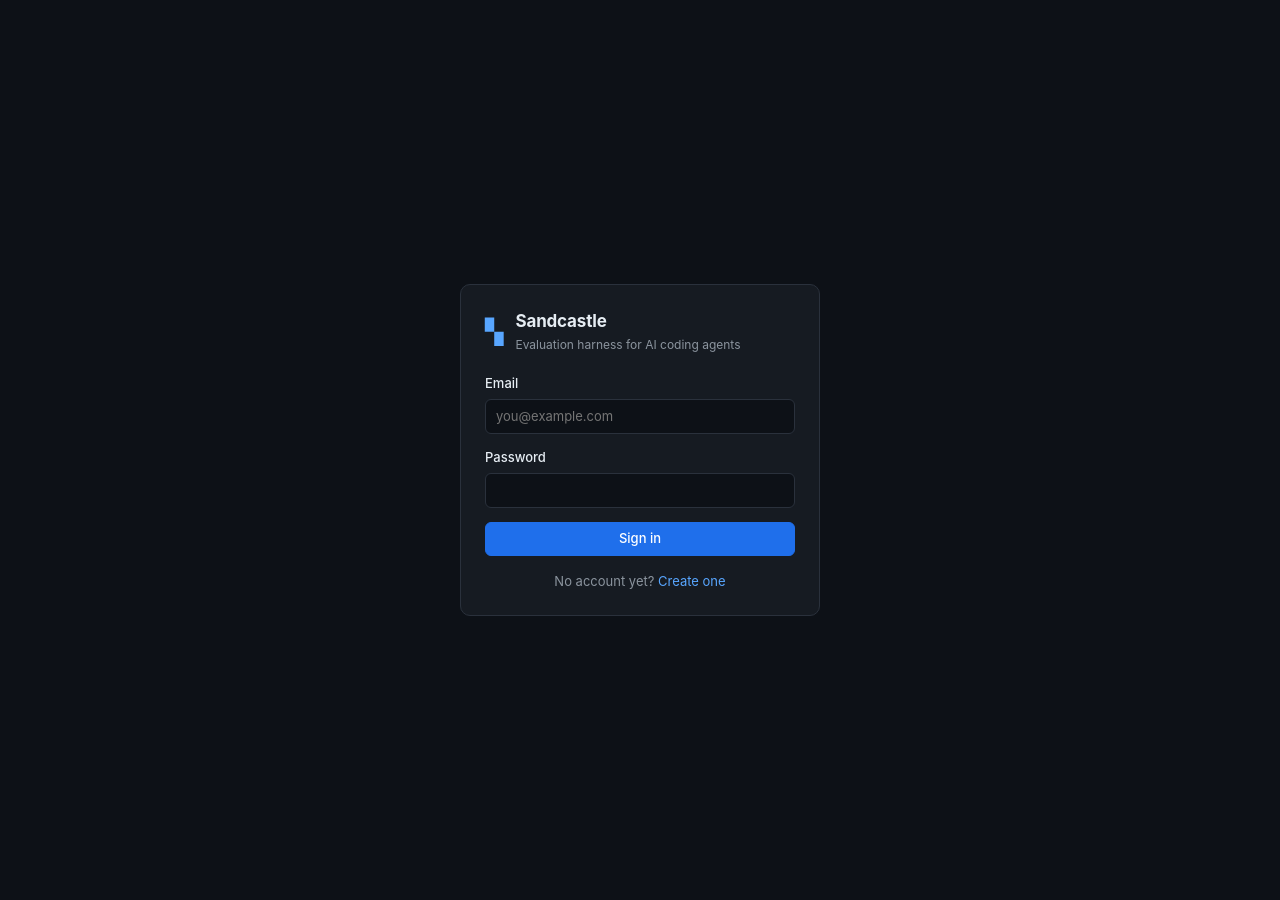
Scenario: sign in › stores the token and lands on the run list
Type "owner@example.com" into the field labelled "Email".
click(640, 417); type("owner@example.com")  # box 485,399 -> 795,434
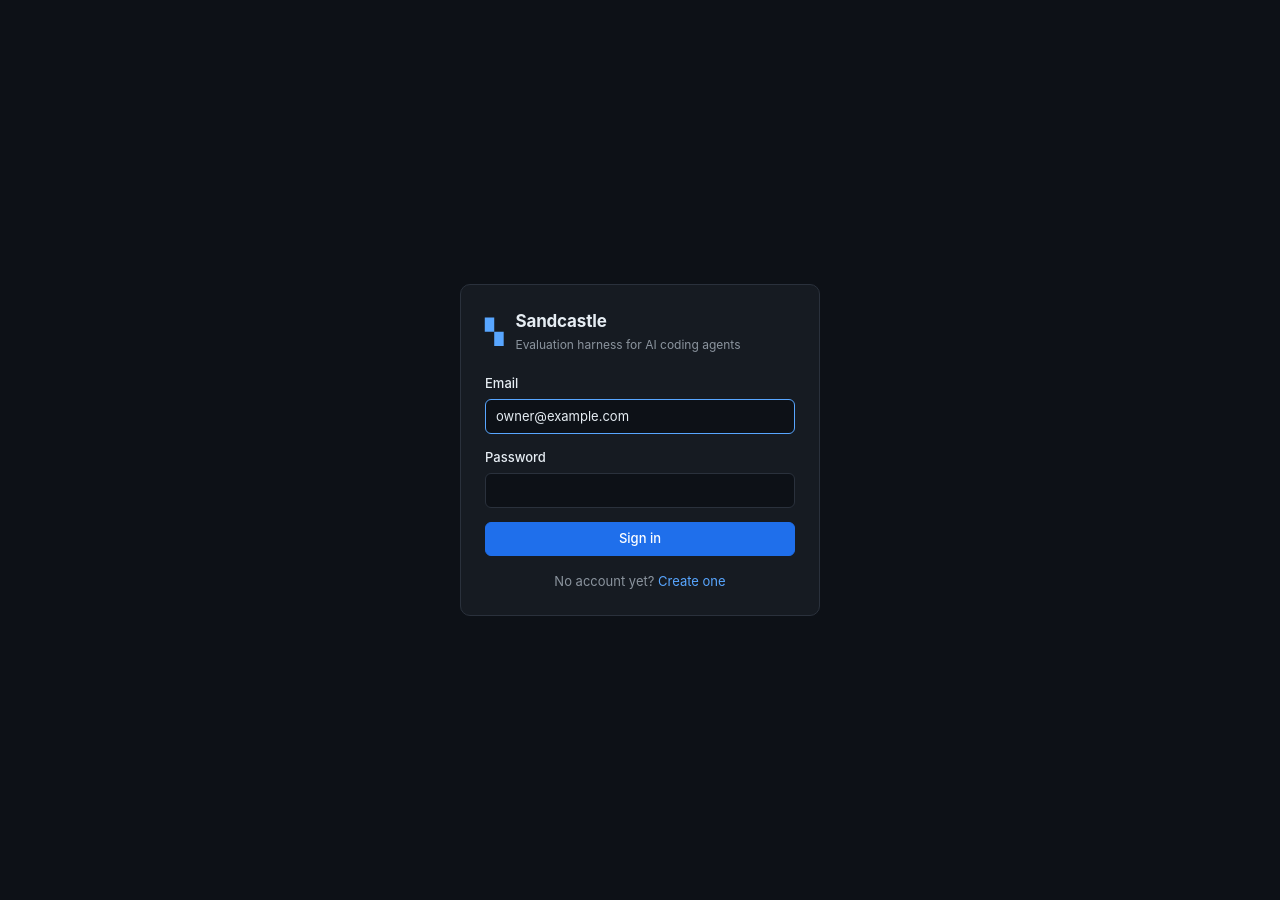
Type "hunter2hunter2" into the password field labelled "Password".
click(640, 491); type("hunter2hunter2")  # box 485,473 -> 795,508
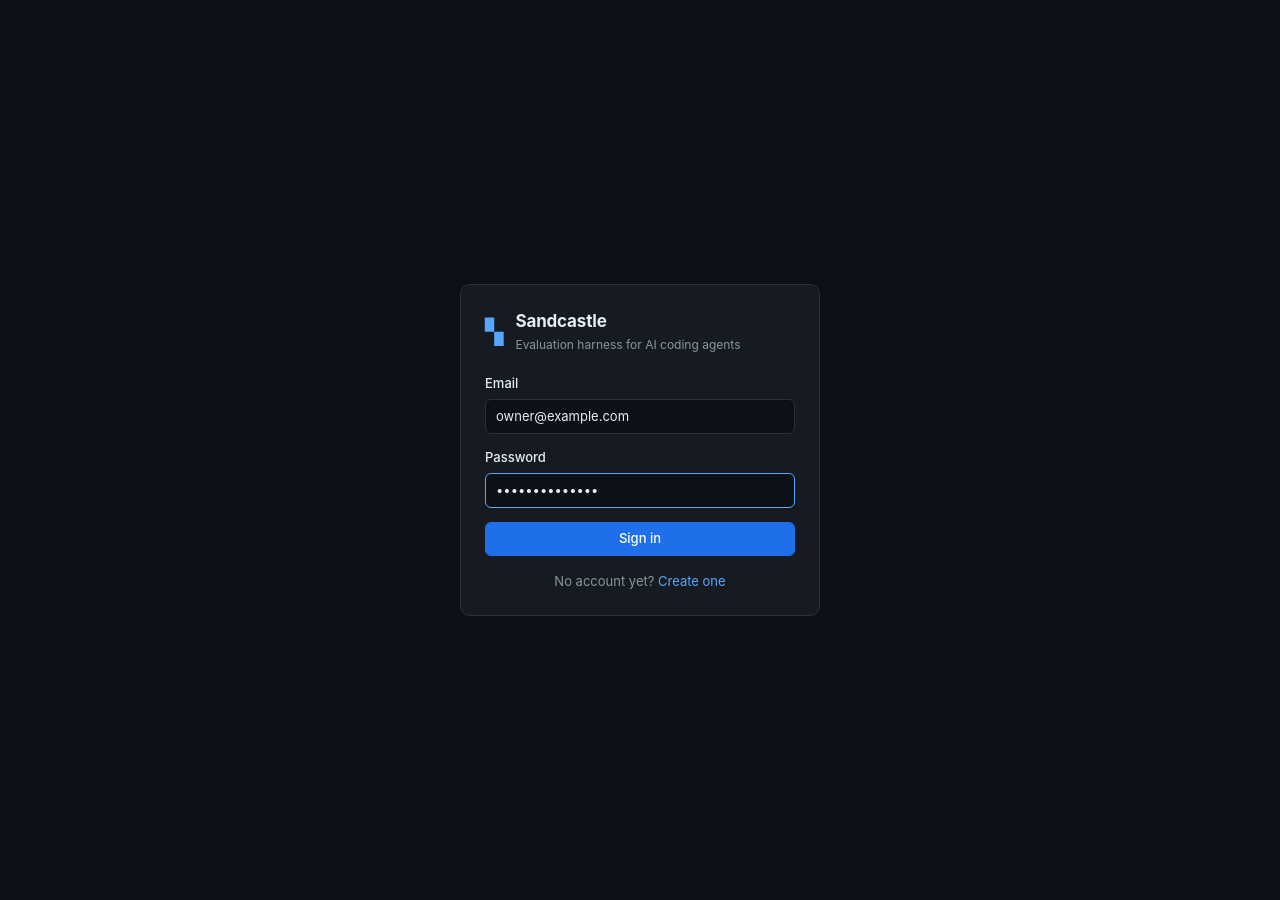
Click the button "Sign in".
click(640, 539)  # box 485,522 -> 795,556
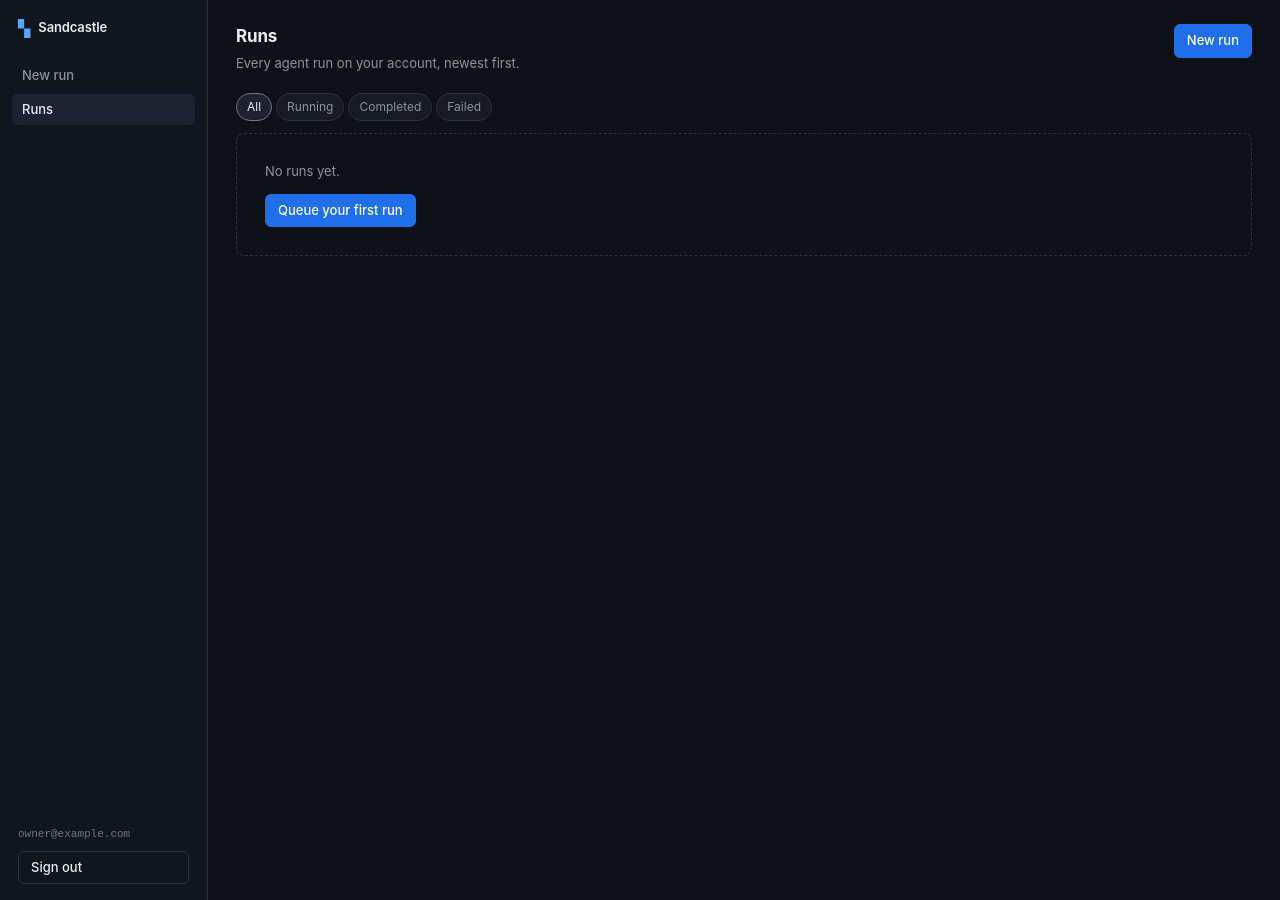
Expected: the heading "Runs" is shown, 236,26 -> 277,46
